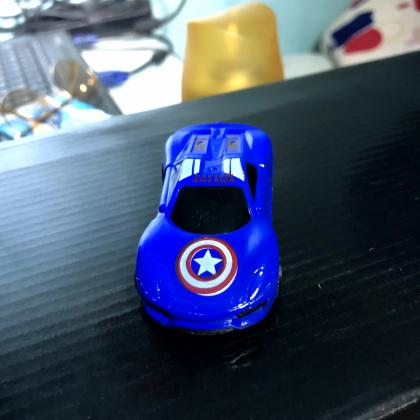Car: (134, 123, 281, 337)
